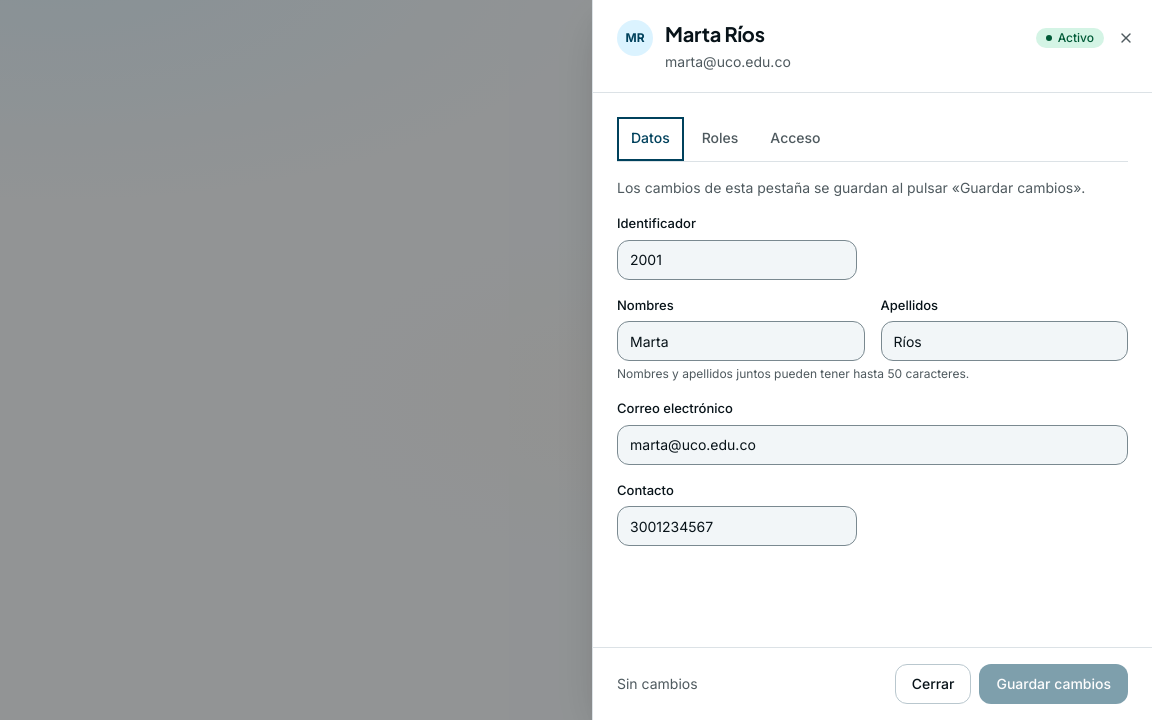
Test case: EditarUsuarioPanel › lo escrito en Datos y un rol recién encendido sobreviven a cambiar de pestaña y volver
The image size is (1152, 720).
Check: the field labelled "Nombres" is shown, box [617,321,864,361]
Type "0" into the field labelled "Contacto". click: (737, 526)
box: [617,506,857,546]
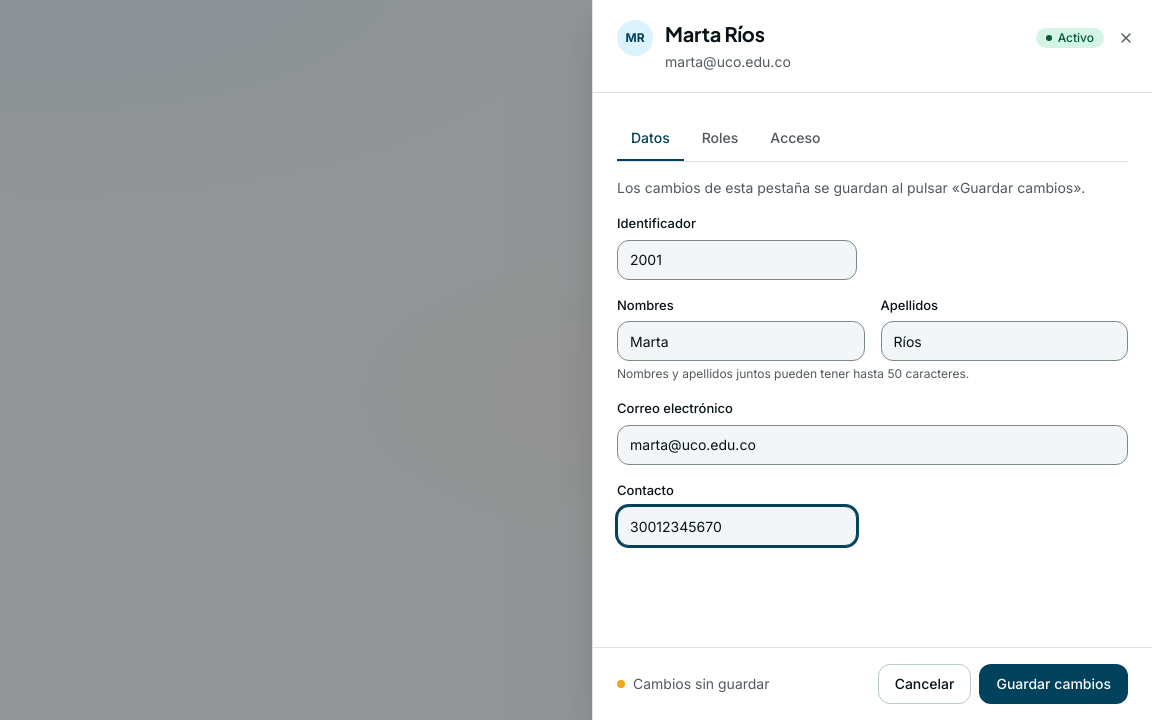
Click the tab "Roles". click: click(720, 139)
box: [688,117,752,161]
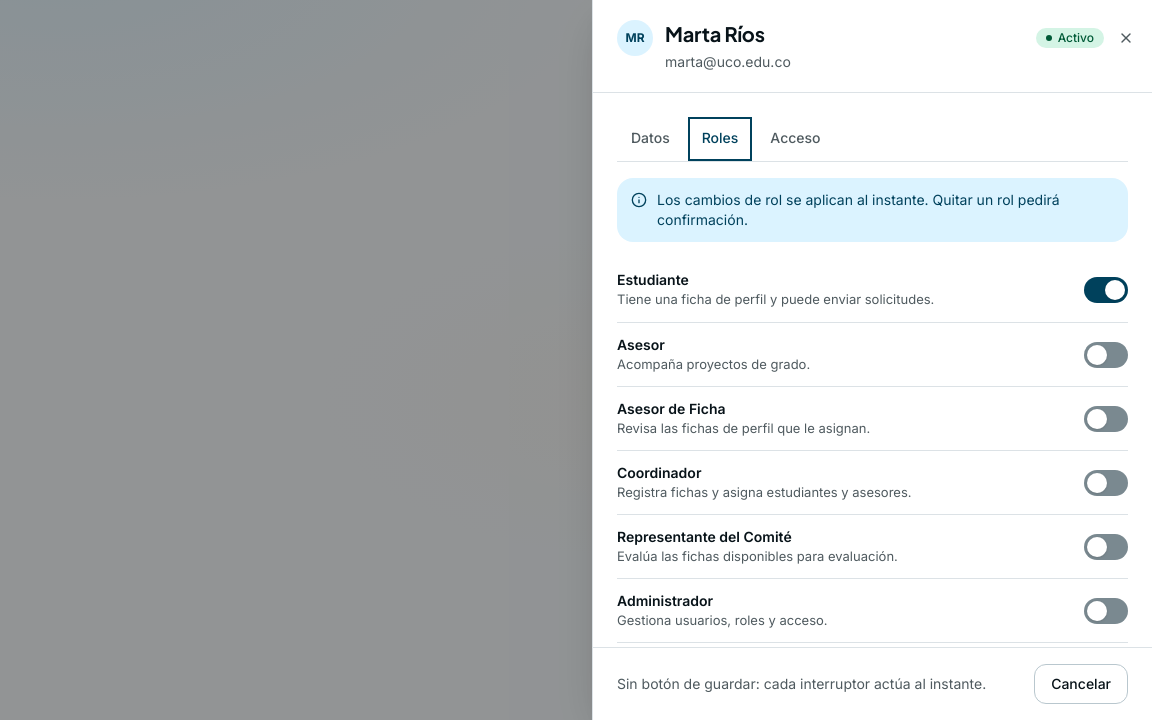
Click the switch named "Asesor" in the row of "Acompaña proyectos de grado.". click: click(1106, 354)
box: [1084,342,1128,368]
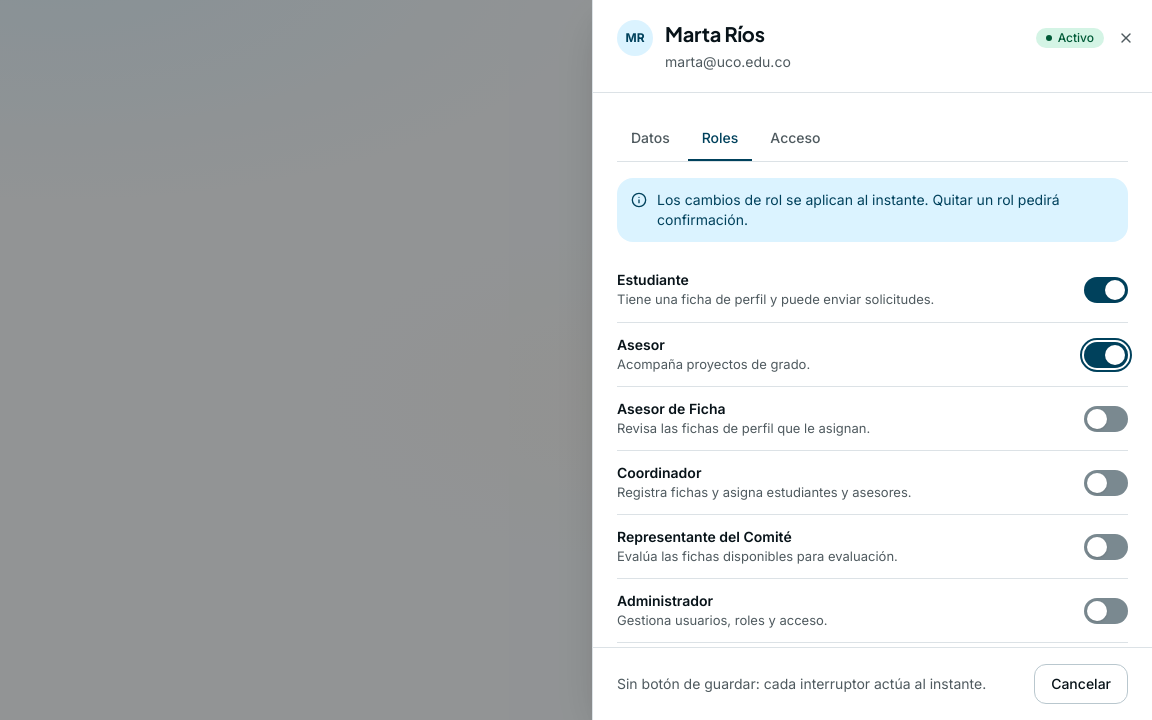
Check: the switch named "Asesor" in the row of "Acompaña proyectos de grado." is shown, box [1084,342,1128,368]
Click the tab "Datos". click: click(650, 139)
box: [617,117,684,161]
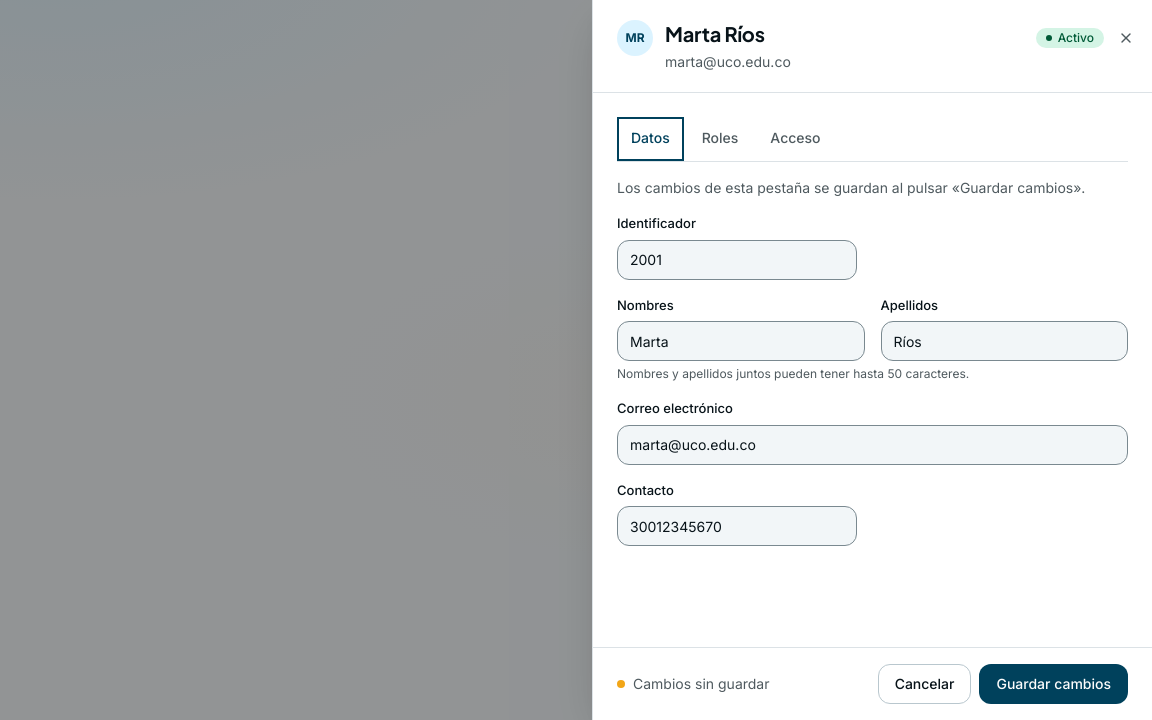
Check: the button "Guardar cambios" is enabled, box [980,664,1128,704]
Click the tab "Roles". click: click(720, 139)
box: [688,117,752,161]
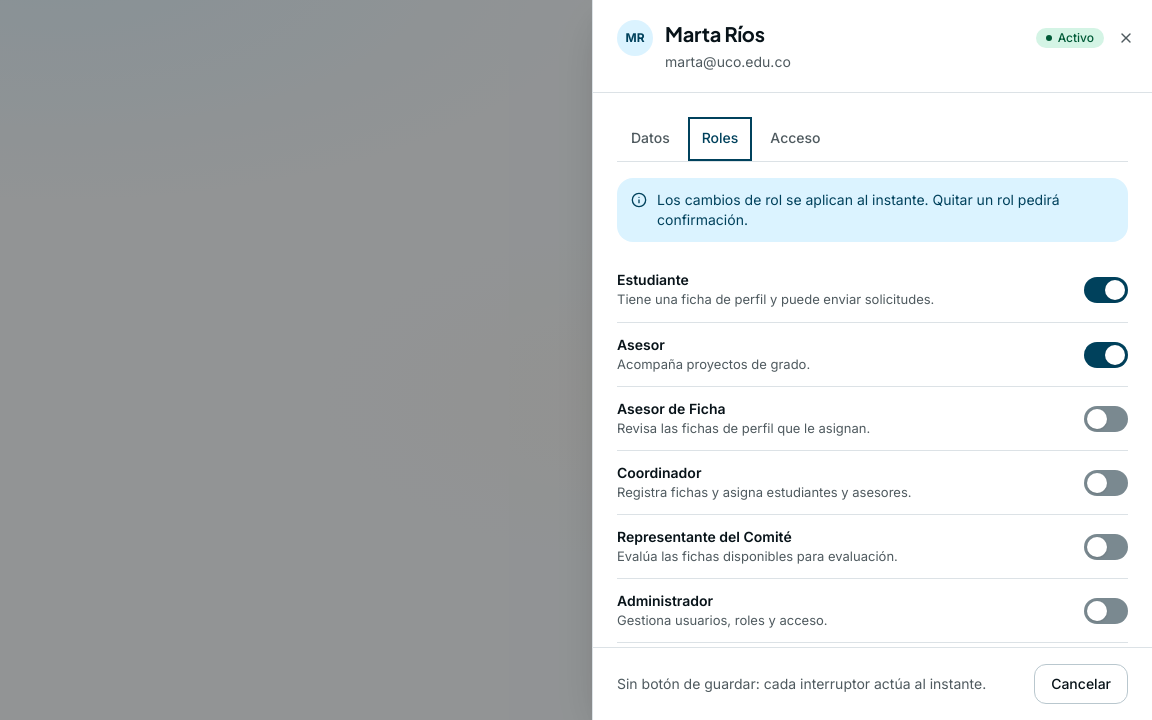
Check: the switch named "Asesor" in the row of "Acompaña proyectos de grado." is checked, box [1084,342,1128,368]
Check: the 1st switch named "Estudiante" is checked, box [1084,277,1128,303]
